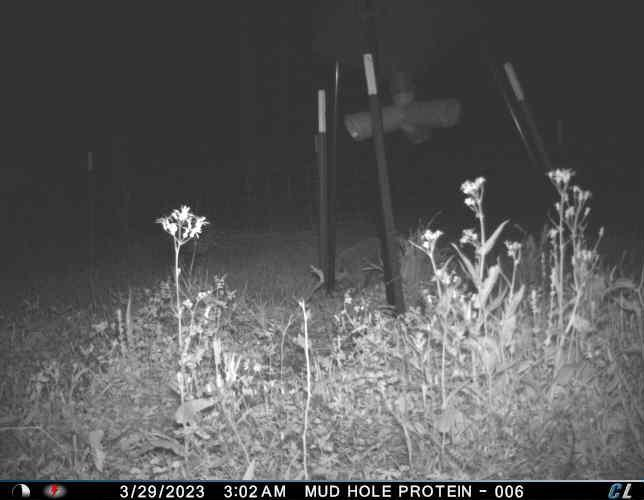Raccoon: (335, 240, 381, 297)
